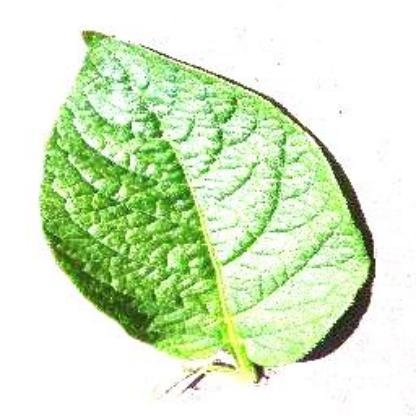Healthy-plant: (37, 20, 379, 384)
